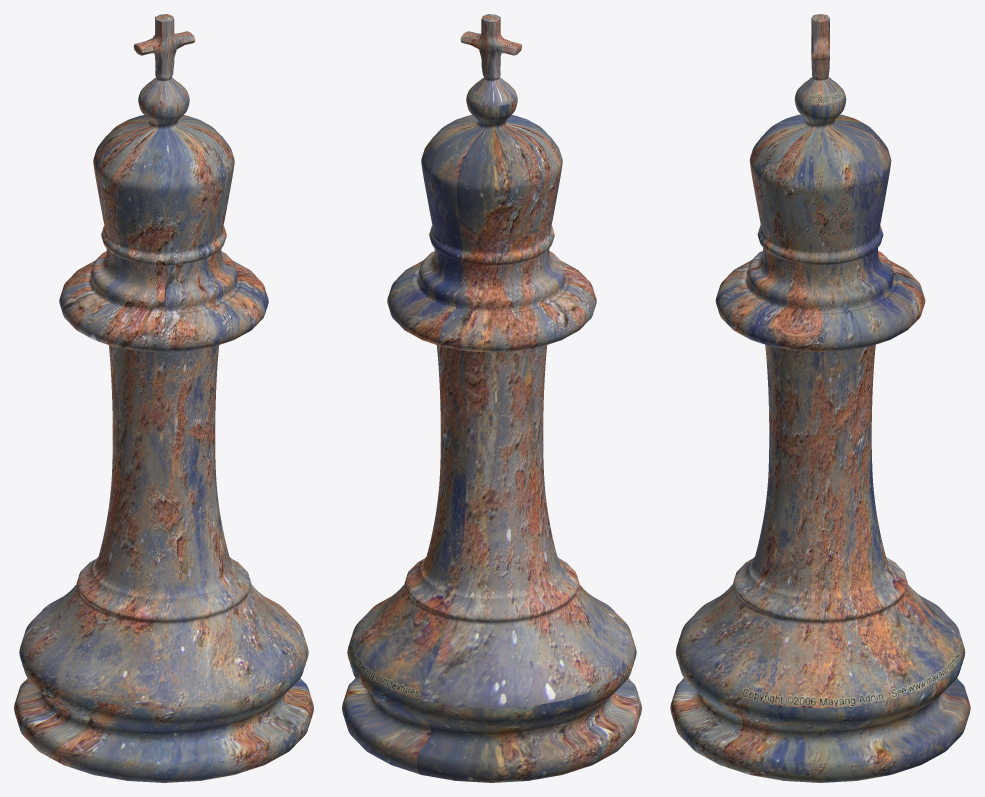
Rendered from KingBlack.obj.
3 renders of one model, left to right at view 1: azimuth 30°, elevation 25°; view 2: azimuth 150°, elevation 25°; view 3: azimuth 270°, elevation 25°, orthographic.
Visible parts, largest first — view 1: mesh01; view 2: mesh01; view 3: mesh01.
Boxes of the visible parts, left/top/right/bottom form: mesh01: left=14, top=14, right=313, bottom=782; mesh01: left=342, top=14, right=641, bottom=782; mesh01: left=670, top=14, right=970, bottom=782.
Bounding box in the file's own units: 14.66 × 38.26 × 14.66.
1 material, 1 textured.
